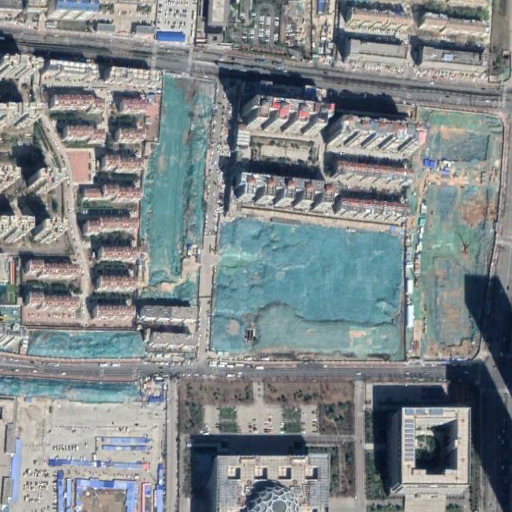cw: (213, 214, 405, 363), (415, 107, 506, 360), (140, 74, 207, 310), (27, 325, 145, 361), (3, 373, 141, 402)
